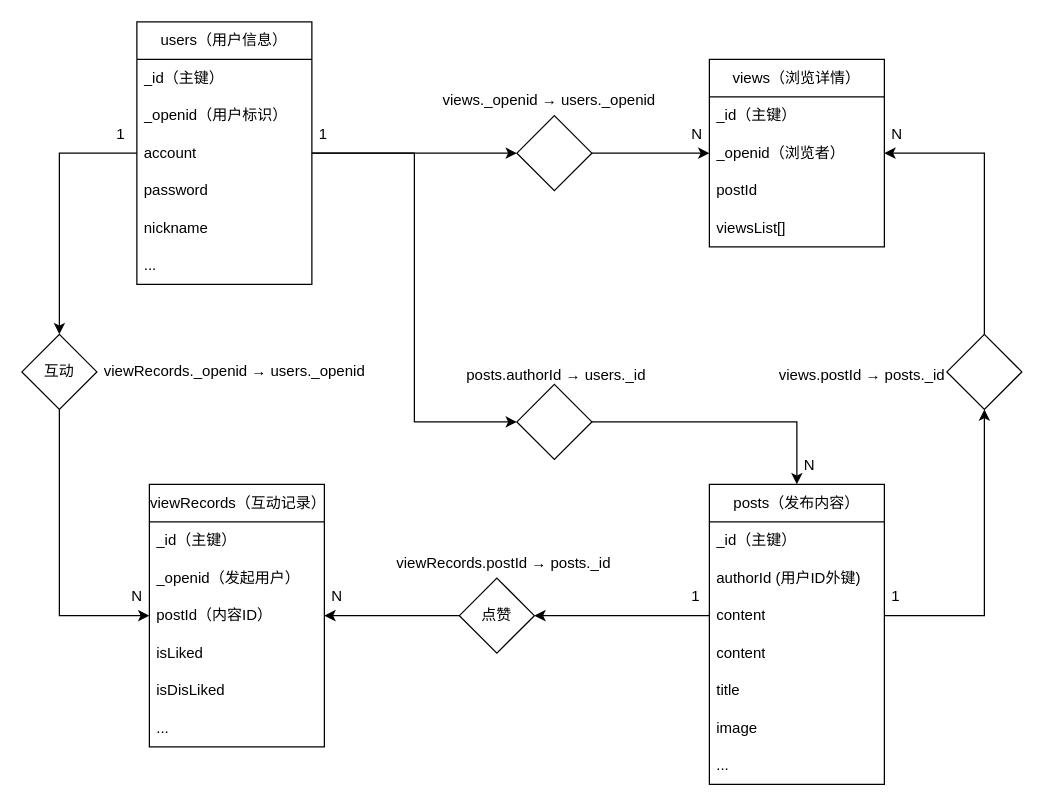
This 1044x806 diagram has some shape labels left out. The shapes that lost their labels are listed below. From the top down, each one's centre as x and y in pixels, then its label:
At (x=554, y=152): "记录".
At (x=984, y=371): "浏览".
At (x=554, y=421): "发布".
